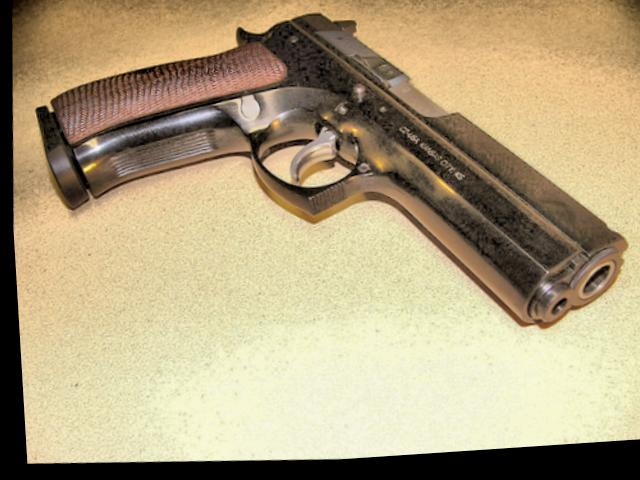pistol: (14, 0, 639, 369)
